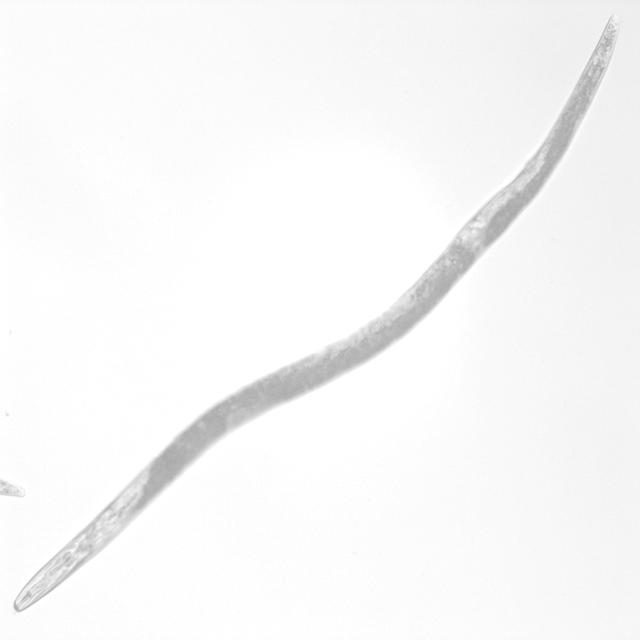Pratylenchus: (6, 3, 621, 626)
